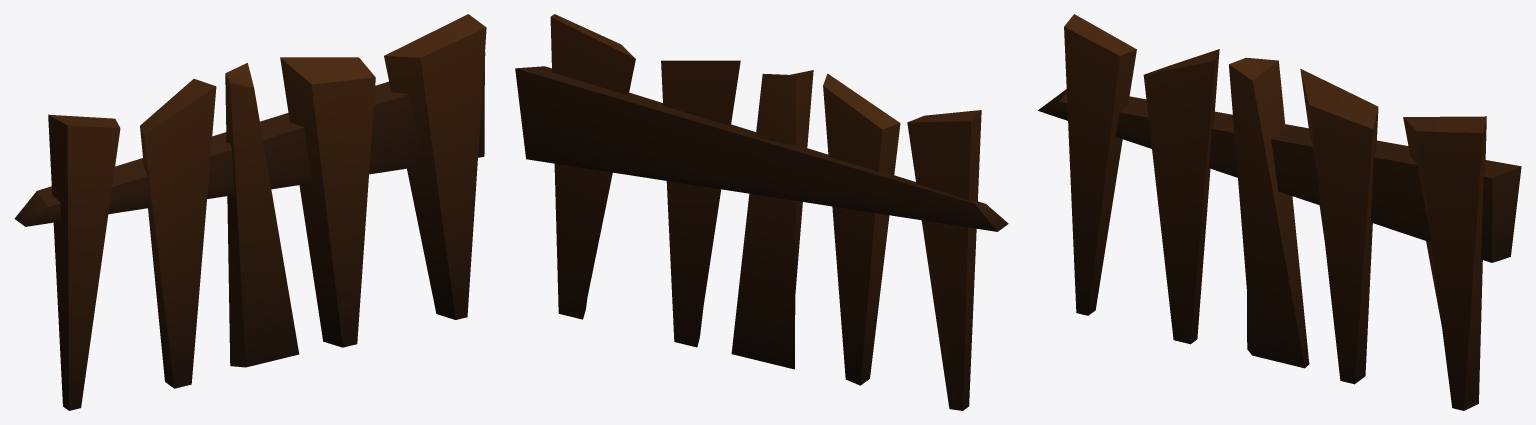
Rendered from c_fence_planks_wood_aa.fbx.
3 views of the same model, side by side, from view 1: azimuth 30°, elevation 25°; view 2: azimuth 150°, elevation 25°; view 3: azimuth 330°, elevation 25° (orthographic).
Parts seen in each view (by area): view 1: c_fence_planks_wood_aa; view 2: c_fence_planks_wood_aa; view 3: c_fence_planks_wood_aa.
Boxes of the visible parts, <box> form: c_fence_planks_wood_aa: <box>14,14,486,410</box>; c_fence_planks_wood_aa: <box>515,14,1008,410</box>; c_fence_planks_wood_aa: <box>1038,14,1521,410</box>.
Bounding box in the file's own units: 2.13 × 1.26 × 0.1723.
